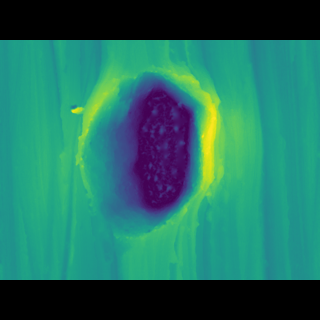Loch: (74, 79, 235, 231)
